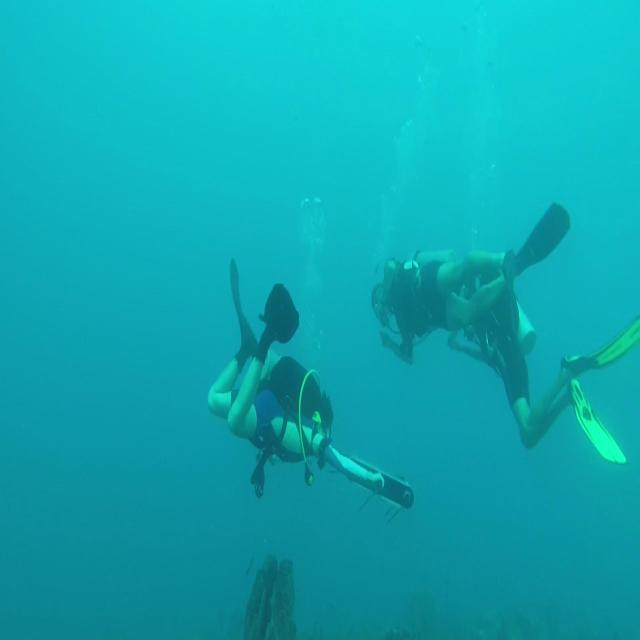human: (372, 200, 638, 457), (207, 257, 414, 521)
